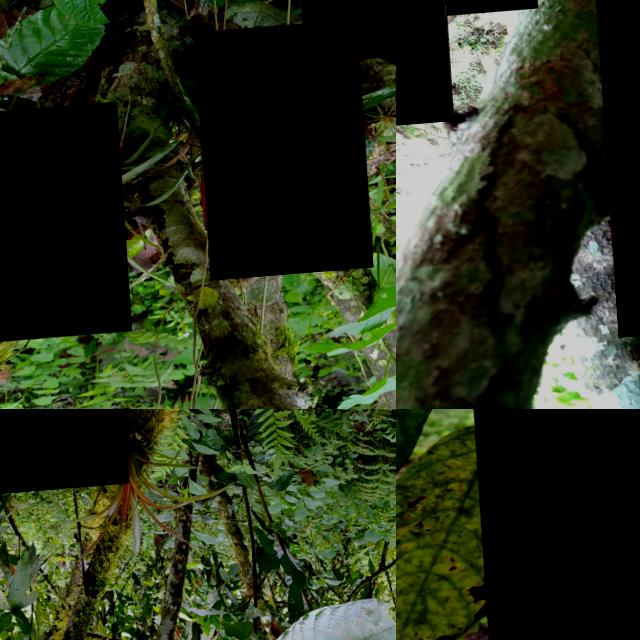Fitoftora: (0, 409, 123, 499), (293, 0, 396, 70)
Monilia: (463, 409, 640, 640)
Sana: (192, 27, 367, 286), (0, 105, 125, 347), (600, 123, 640, 342), (396, 0, 449, 131)
